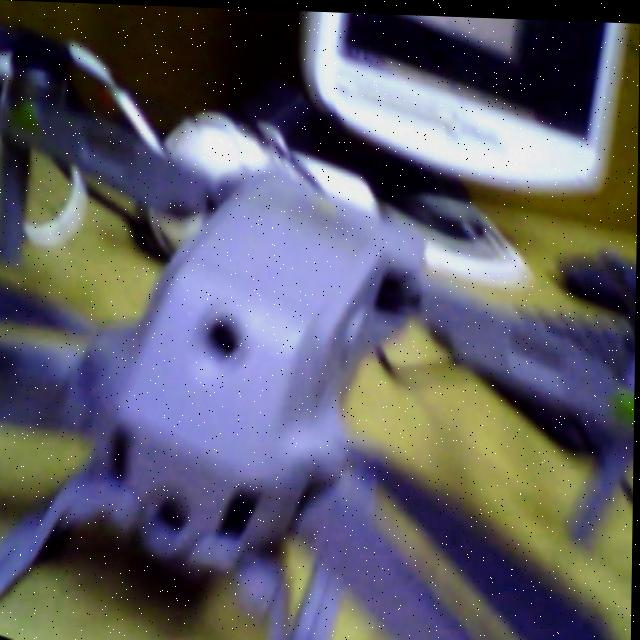drone: (0, 32, 640, 640)
